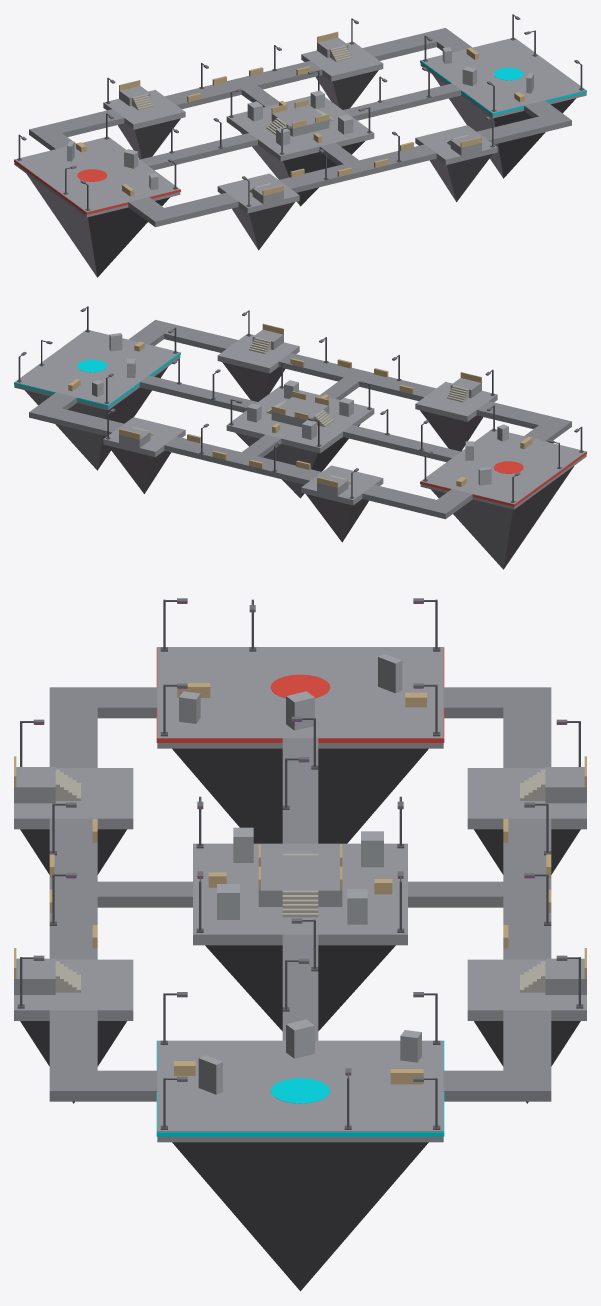
The model's file is ctf_void.glb.
3 views of the same model, one above another, from view 1: azimuth 30°, elevation 25°; view 2: azimuth 150°, elevation 25°; view 3: azimuth 270°, elevation 25° (orthographic). The views are drawn at different scales.
Visible parts, largest first — view 1: Platforms, Underside, Structures, Cover; view 2: Platforms, Underside, Structures, Cover; view 3: Platforms, Underside, Structures, Cover.
Part boxes in pixels (x1,y1,x2,y2): Platforms: (14, 28, 586, 227); Underside: (27, 70, 576, 277); Structures: (14, 14, 586, 214); Cover: (67, 47, 533, 196); Platforms: (14, 320, 586, 519); Underside: (24, 362, 573, 569); Structures: (14, 306, 586, 506); Cover: (68, 333, 532, 486); Platforms: (14, 647, 586, 1142); Underside: (20, 748, 580, 1291); Structures: (14, 598, 586, 1136); Cover: (174, 653, 426, 1094).
Size of the model in its own units: 96.12 by 23.65 by 48.
